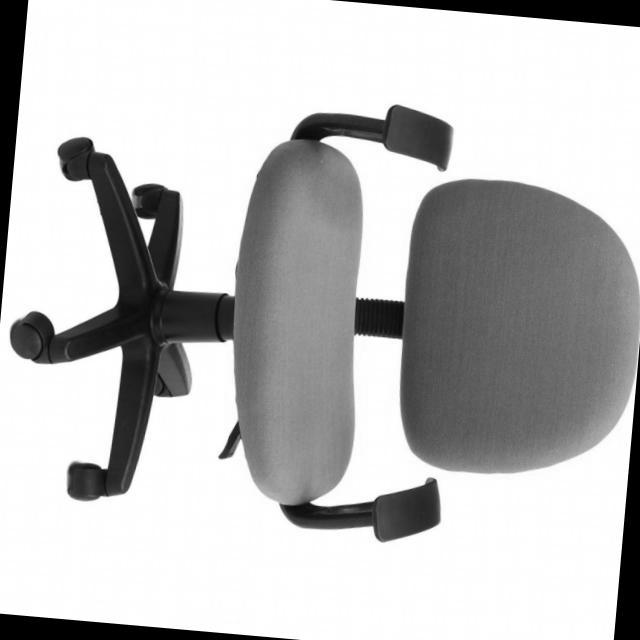chair: (0, 69, 640, 568)
